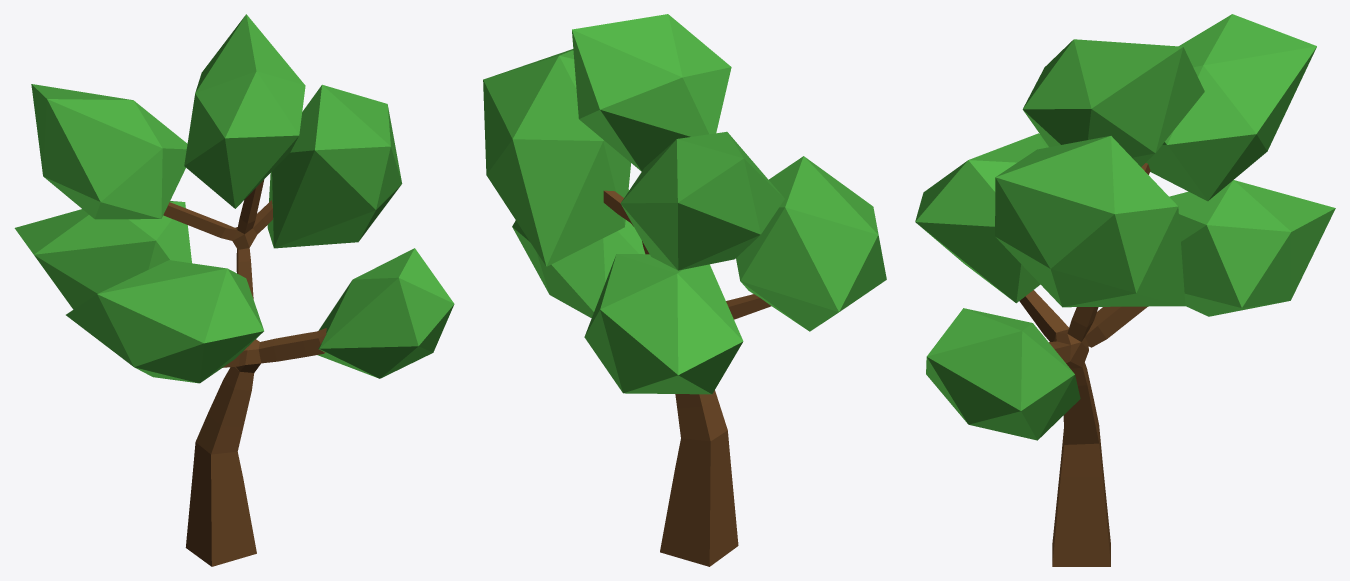
Rendered from gix_tree_1.glb.
The picture shows the model from 3 angles, left to right: view 1: azimuth 30°, elevation 25°; view 2: azimuth 150°, elevation 25°; view 3: azimuth 270°, elevation 25°; orthographic projection. The views are drawn at different scales.
Parts seen in each view (by area): view 1: Icosphere.002, Icosphere.003, Icosphere.005, Icosphere.004, tronco, Icosphere.001, Icosphere; view 2: Icosphere.002, Icosphere.004, Icosphere, Icosphere.003, Icosphere.005, tronco, Icosphere.001; view 3: Icosphere.002, Icosphere.005, Icosphere, Icosphere.004, Icosphere.001, tronco, Icosphere.003.
Boxes of the visible parts, box(x1,y1,x2,y2) form: Icosphere.002: box(267, 84, 402, 248); Icosphere.003: box(66, 260, 263, 383); Icosphere.005: box(31, 84, 187, 219); Icosphere.004: box(184, 14, 305, 208); tronco: box(163, 179, 326, 566); Icosphere.001: box(317, 248, 454, 378); Icosphere: box(14, 201, 191, 309); Icosphere.002: box(483, 49, 630, 266); Icosphere.004: box(572, 14, 731, 171); Icosphere: box(584, 254, 743, 394); Icosphere.003: box(736, 156, 886, 331); Icosphere.005: box(620, 131, 784, 270); tronco: box(603, 190, 771, 566); Icosphere.001: box(512, 189, 645, 317); Icosphere.002: box(995, 136, 1185, 307); Icosphere.005: box(1146, 14, 1316, 201); Icosphere: box(1169, 180, 1335, 316); Icosphere.004: box(1022, 39, 1204, 166); Icosphere.001: box(926, 308, 1080, 440); tronco: box(1019, 163, 1150, 566); Icosphere.003: box(915, 133, 1048, 303).
Bounding box in the file's own units: 1.6 × 2.2 × 1.53.
